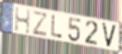2: (84, 20, 99, 47)
5: (67, 16, 82, 43)
H: (14, 7, 31, 36)
L: (50, 14, 64, 40)
V: (100, 22, 118, 50)
Z: (32, 10, 48, 37)
